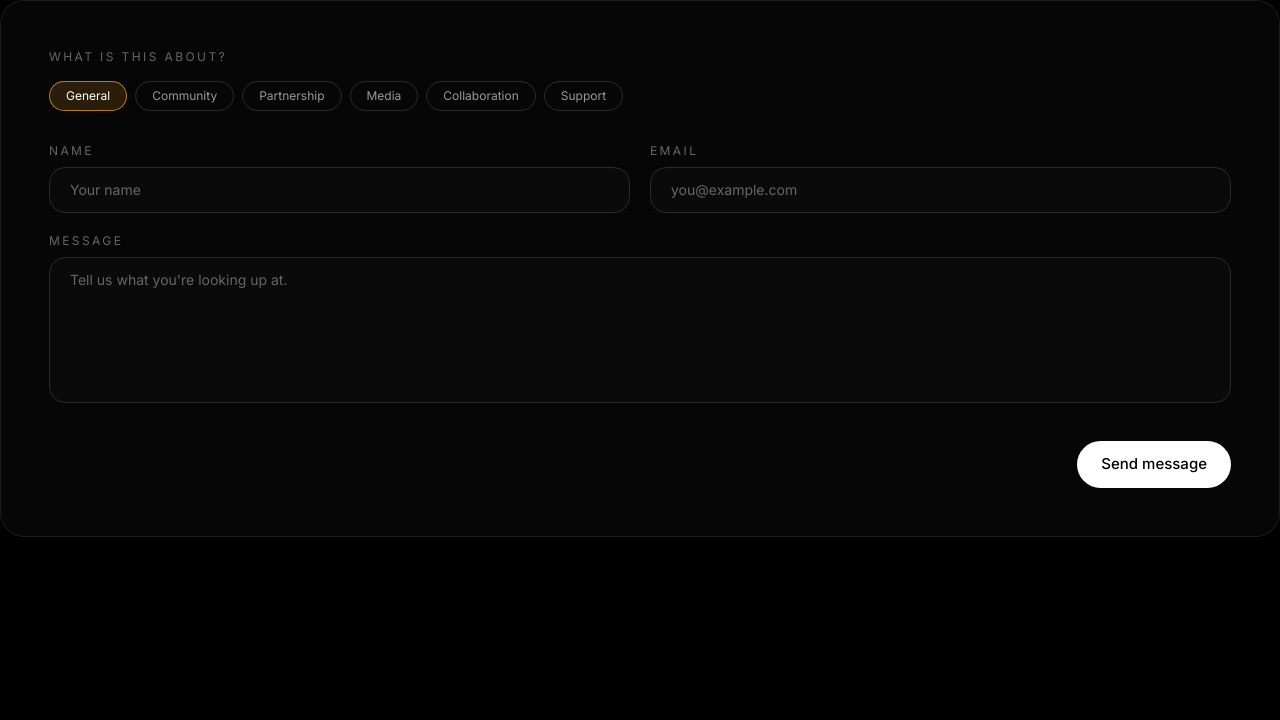
Test case: ContactForm › shows the error state instead of a false success when the endpoint rejects
Step 1. Type "Maya" into the field labelled "Name" → {"x": 340, "y": 190}, box top-left (49, 167), bottom-right (630, 213)
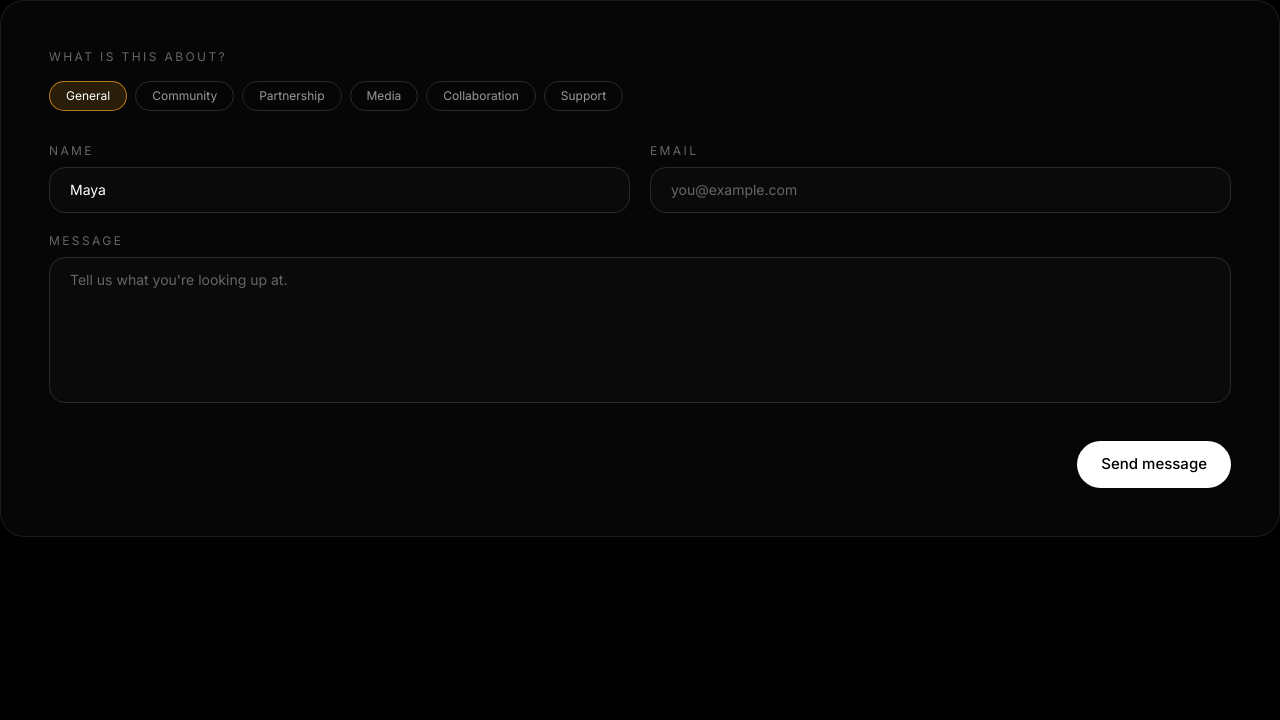
Step 2. Type "maya@example.com" into the field labelled "Email" → {"x": 940, "y": 190}, box top-left (650, 167), bottom-right (1231, 213)
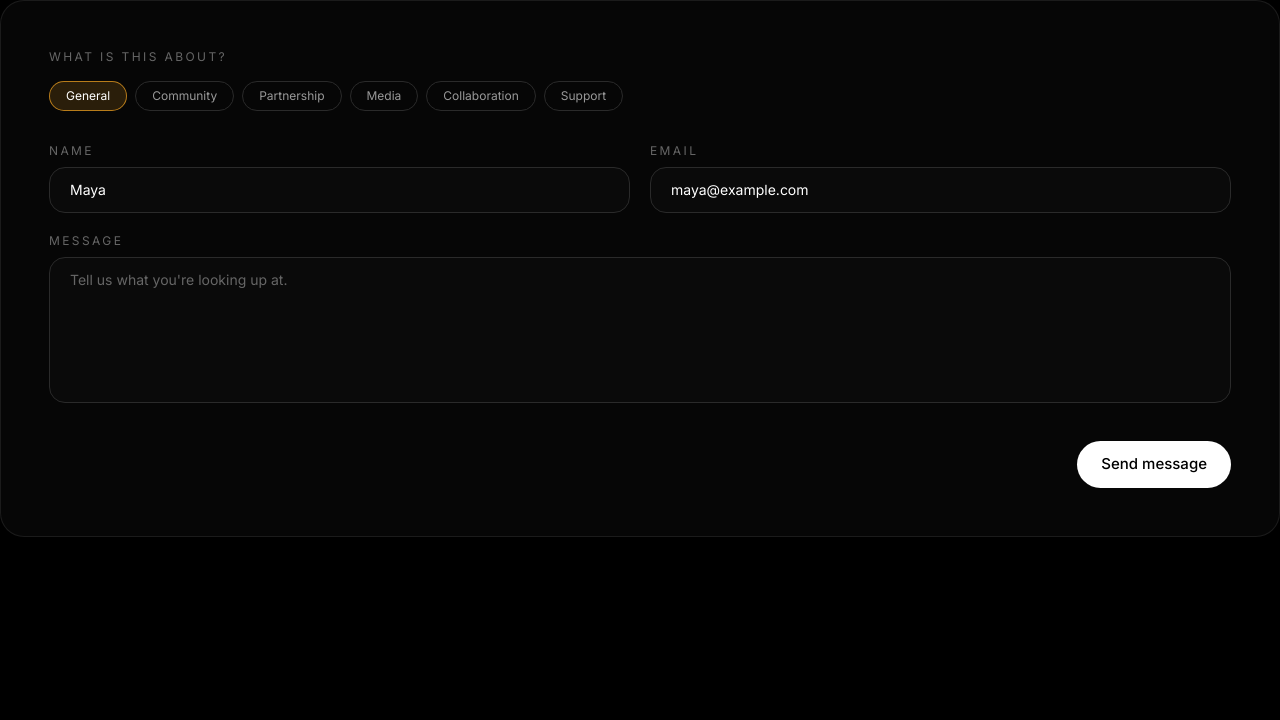
Step 3. Type "Hello from the observatory." into the text box labelled "Message" → {"x": 640, "y": 330}, box top-left (49, 257), bottom-right (1231, 403)
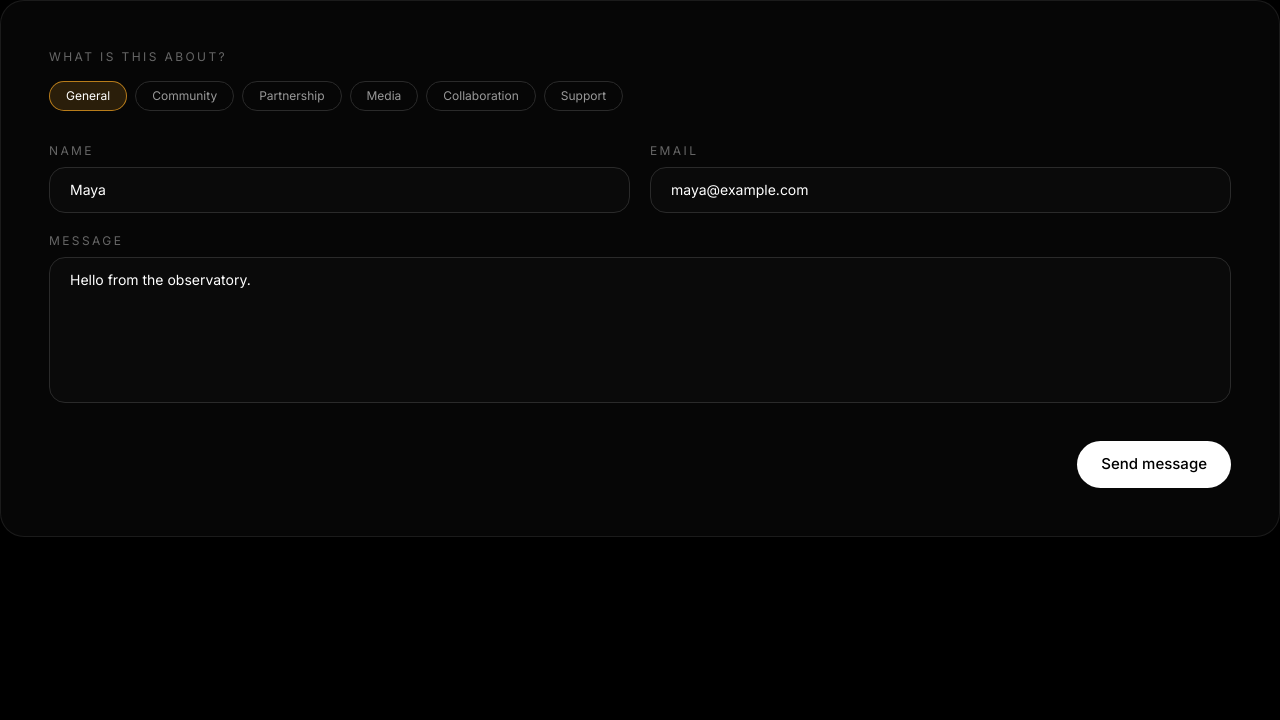
Step 4. Click the button "Send message" → {"x": 1154, "y": 464}, box top-left (1077, 441), bottom-right (1231, 488)
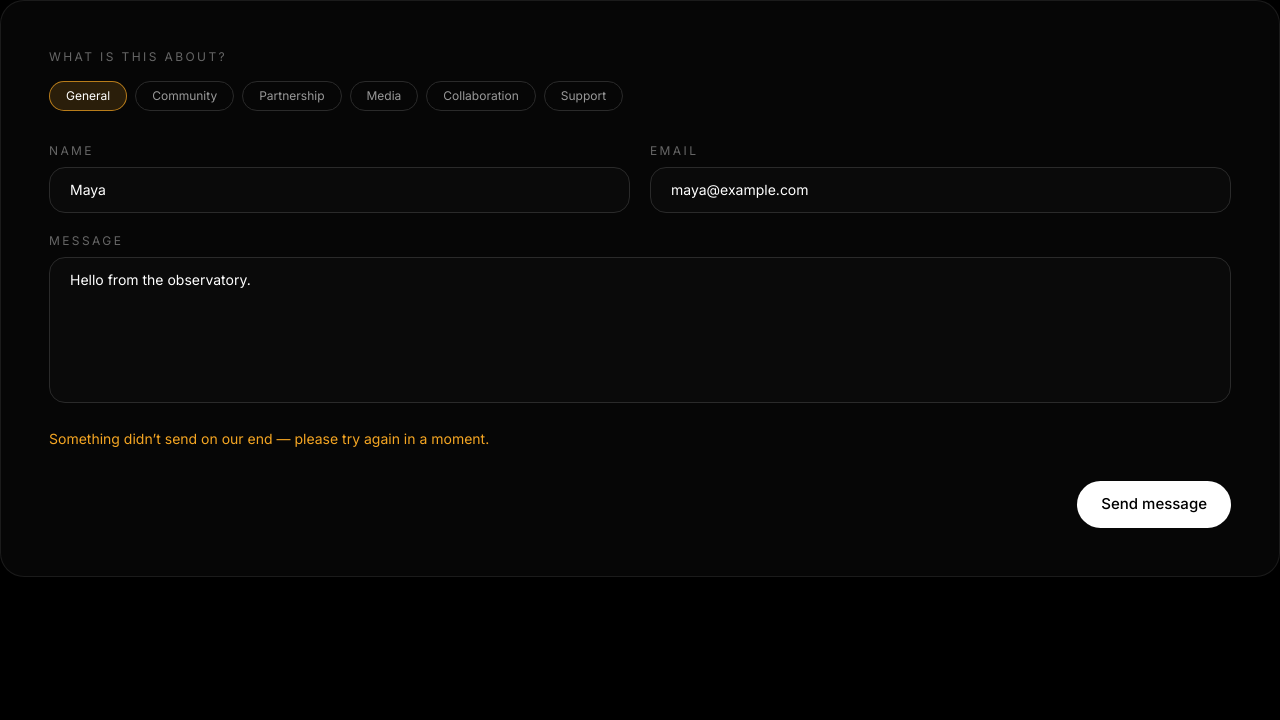
Expected: the message shows "on our end", top-left (49, 430), bottom-right (489, 447)
